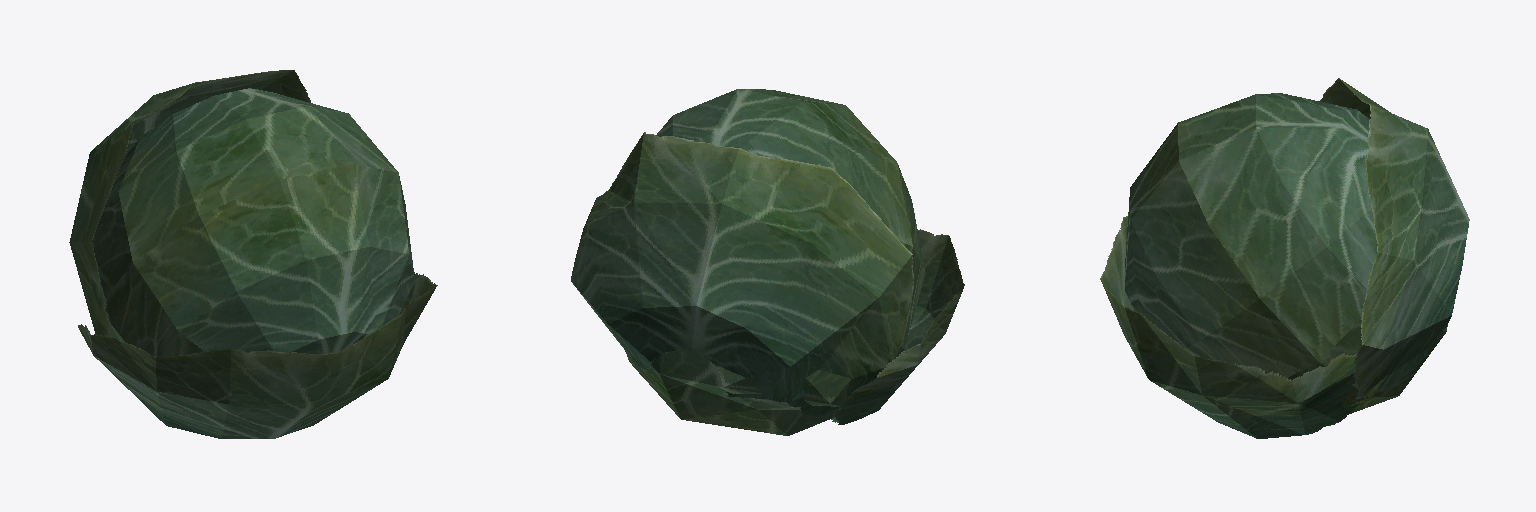
3 renders of one model, left to right at view 1: azimuth 30°, elevation 25°; view 2: azimuth 150°, elevation 25°; view 3: azimuth 270°, elevation 25°, orthographic.
Visible parts, largest first — view 1: Mesh_0099; view 2: Mesh_0099; view 3: Mesh_0099.
Boxes of the visible parts, x1,y1,x2,y2 form: Mesh_0099: [69, 70, 437, 438]; Mesh_0099: [571, 89, 964, 435]; Mesh_0099: [1100, 78, 1469, 438].
Bounding box in the file's own units: 0.2879 × 0.2627 × 0.2871.
Materials: 1 (1 with a texture image).